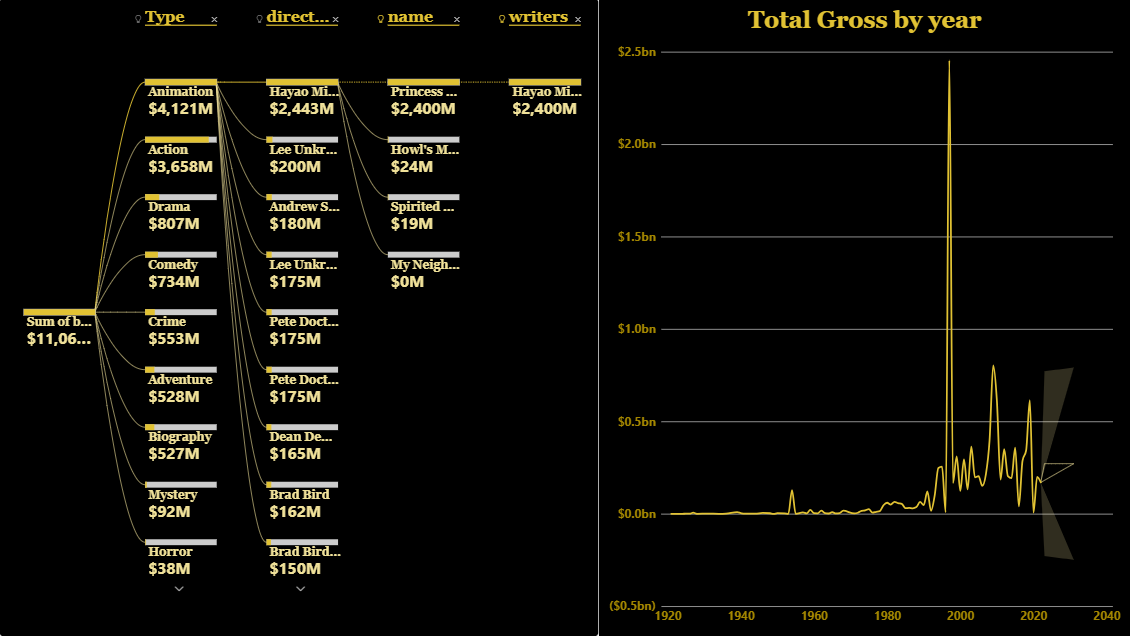

Layout of this report page (visuals, bound fields, positions):
{"tool":"powerbi","page":{"name":"Revenue & Breakdown","canvas":[1920,1080],"ordinal":1},"visuals":[{"type":"decompositionTreeVisual","fields":{"Analyze":["Sum(IMDB Top 250 Movies.budget)"],"ExplainBy":["Type.Type","IMDB Top 250 Movies.directors","IMDB Top 250 Movies.name","IMDB Top 250 Movies.writers"]},"box":[0,0,1022.5,1080],"z":0},{"type":"lineChart","fields":{"Category":["IMDB Top 250 Movies.year"],"Y":["IMDB Top 250 Movies.Total Gross"]},"box":[1022,0,898,1080],"z":1000}]}

Visuals, with their boxes in screenshot pixels (x1, y1, x2, y2), scaled from the page's 1920x1080 canvas onto the 1130x636 screenshot:
decompositionTreeVisual - Sum(IMDB Top 250 Movies.budget) x Type.Type: (left=0, top=0, right=602, bottom=635)
lineChart - IMDB Top 250 Movies.year x IMDB Top 250 Movies.Total Gross: (left=601, top=0, right=1129, bottom=635)
